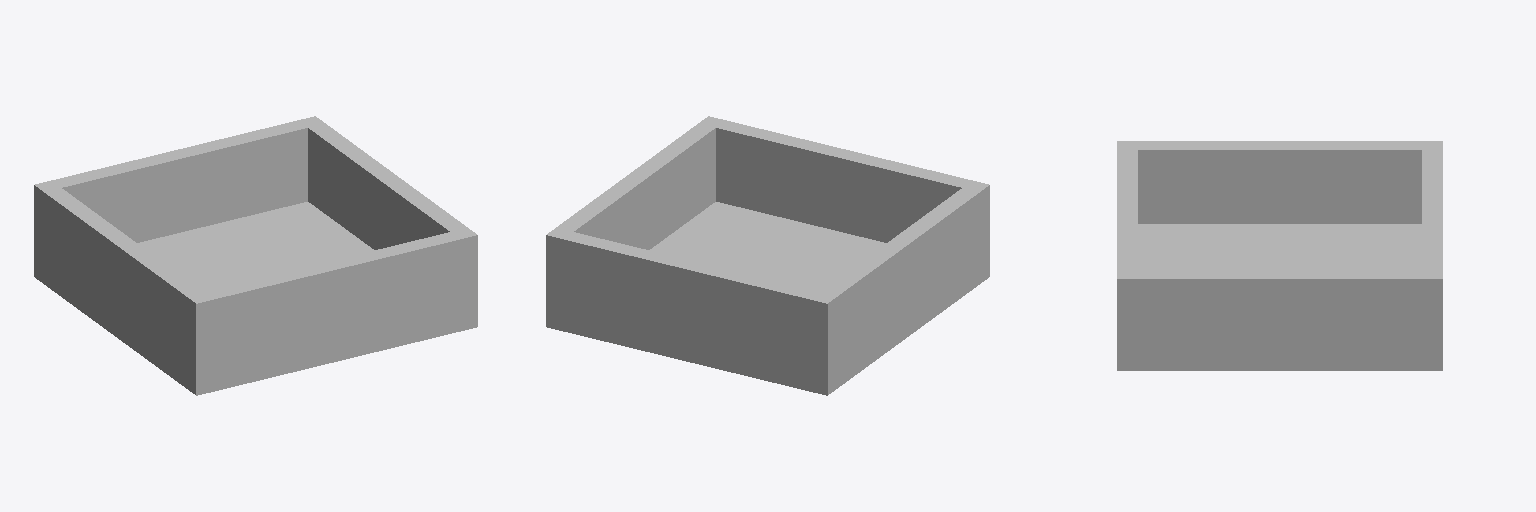
File: basin.obj
3 views of the same model, side by side, from view 1: azimuth 30°, elevation 25°; view 2: azimuth 150°, elevation 25°; view 3: azimuth 270°, elevation 25° (orthographic).
Size of the model in its own units: 24 by 7.5 by 24.